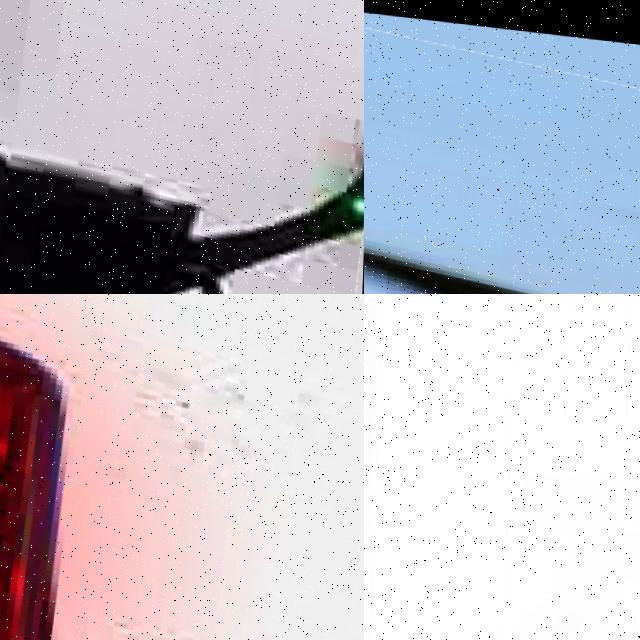0: (0, 0, 364, 294)
drone: (0, 294, 364, 640), (364, 0, 640, 294)
